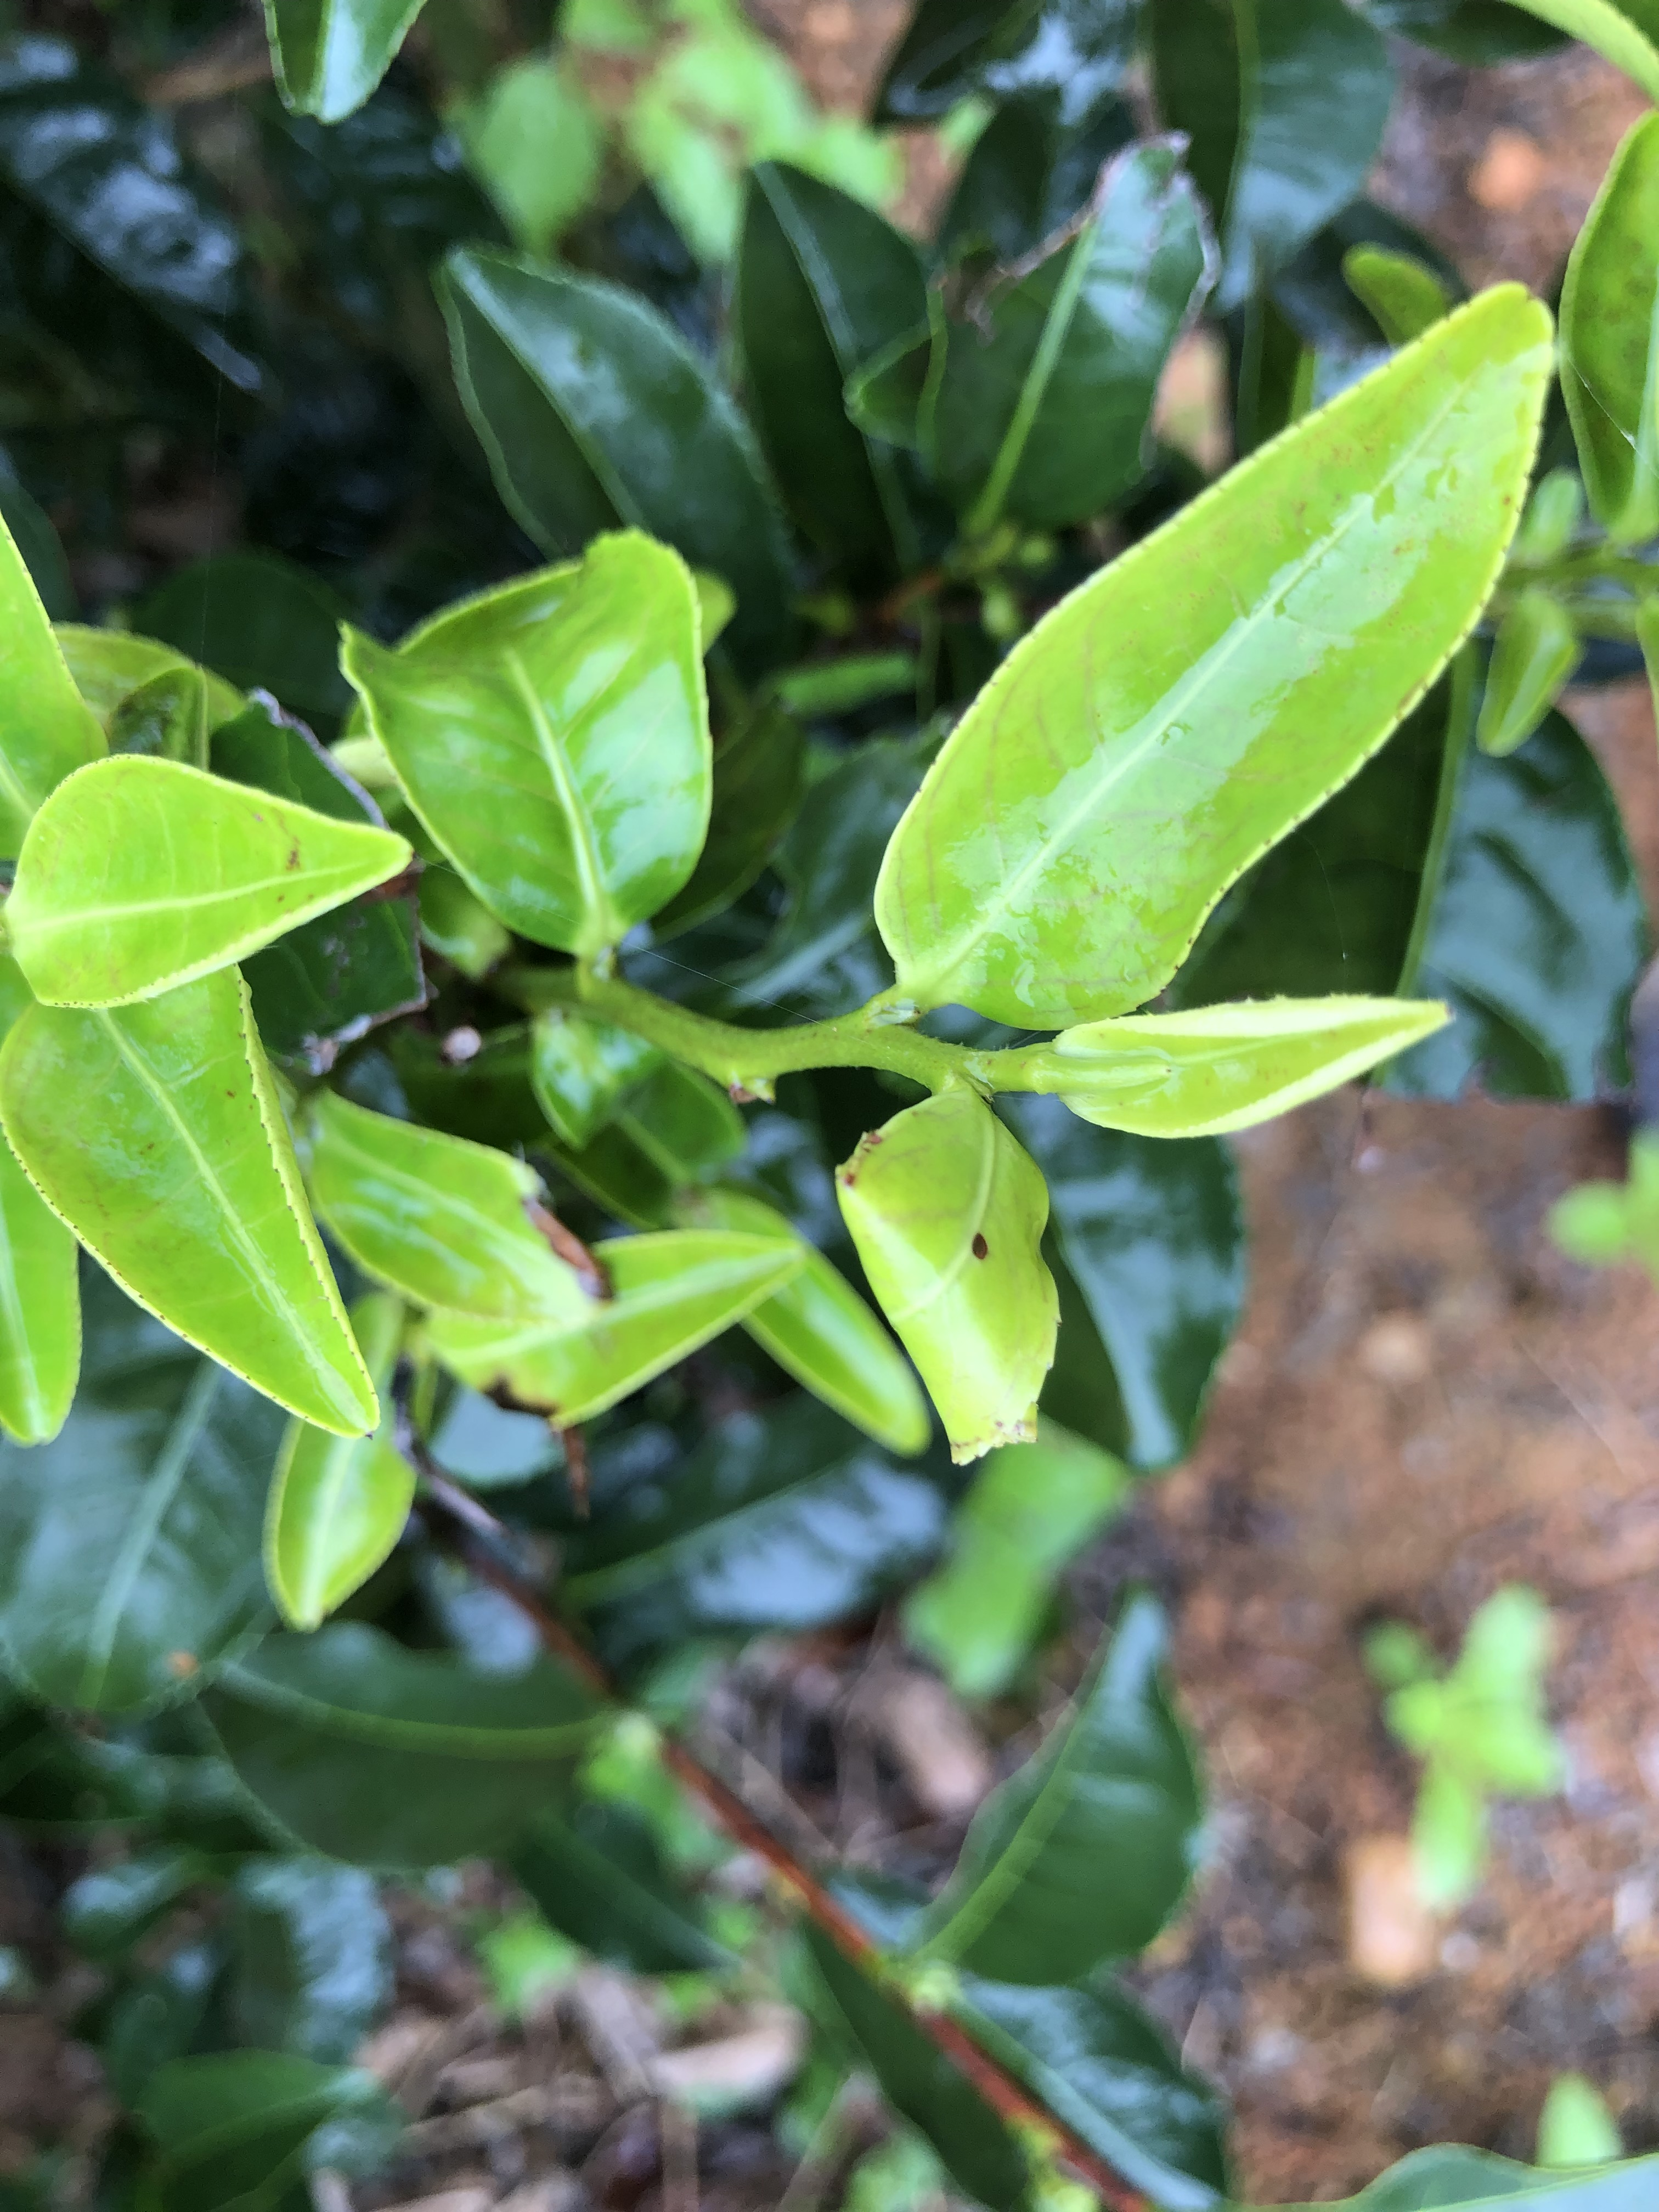thrips: (864, 293, 1558, 1042)
